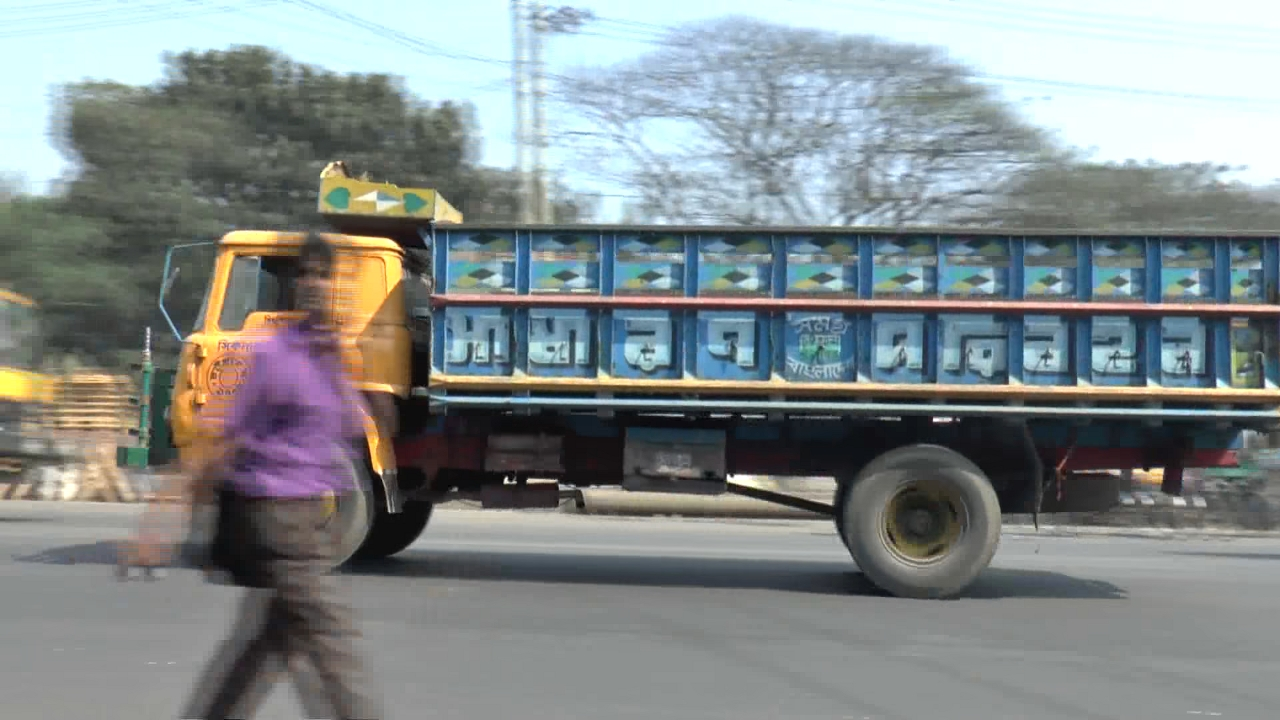truck: (152, 167, 1276, 578)
